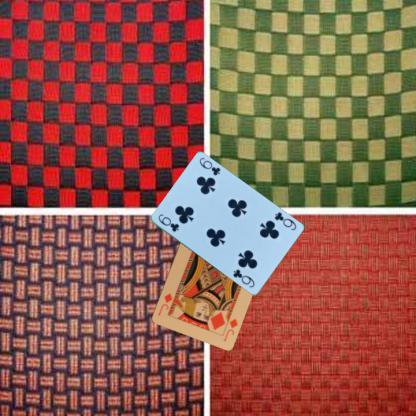6c: (272, 209, 298, 232), (156, 211, 180, 233)
Jd: (221, 316, 239, 342)
